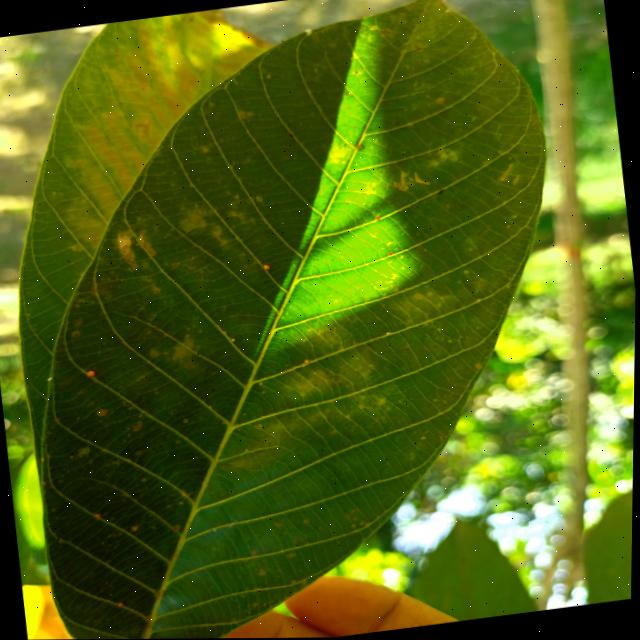Leaf-Blight: (117, 233, 134, 257)
